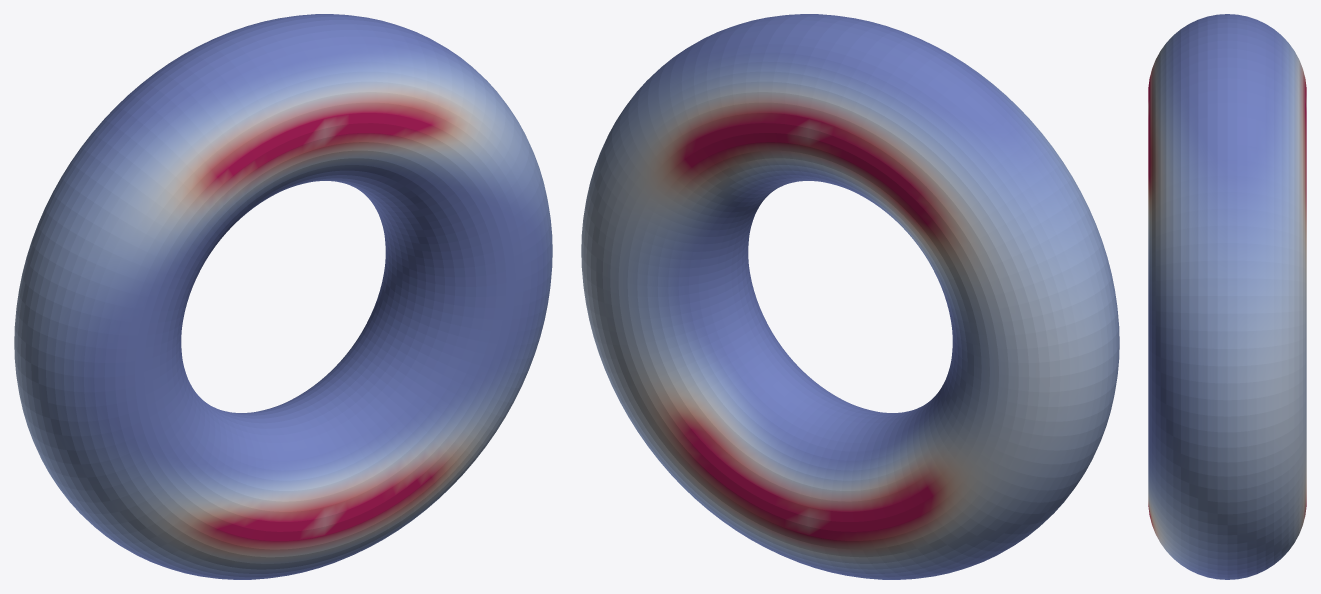
3 views of the same model, side by side, from view 1: azimuth 30°, elevation 25°; view 2: azimuth 150°, elevation 25°; view 3: azimuth 270°, elevation 25° (orthographic). The views are drawn at different scales.
Visible parts, largest first — view 1: world; view 2: world; view 3: world.
Part boxes in pixels (<box>): world: <box>14,14,552,579</box>; world: <box>581,14,1119,579</box>; world: <box>1148,14,1306,579</box>.
Bounding box in the file's own units: 17.6 × 17.6 × 4.92.
